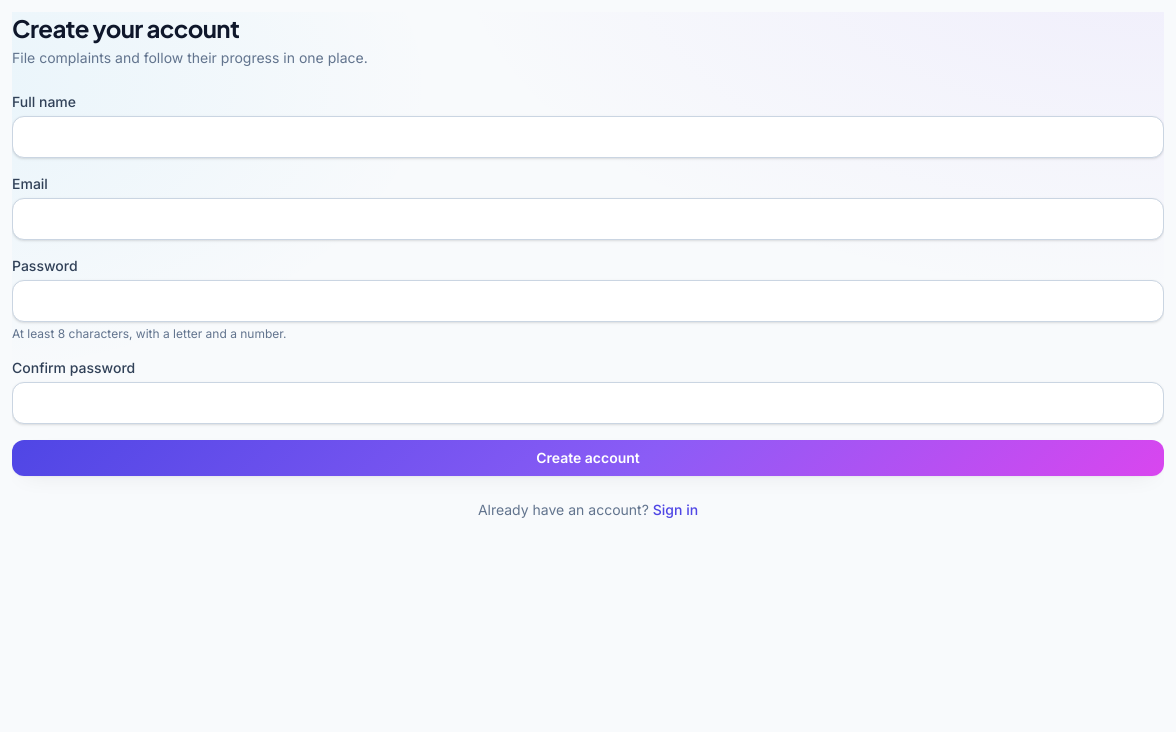
Test: shows field errors and does not submit invalid data
In the field labelled "Full name": (588, 137) [12,116,1164,158], type "A"
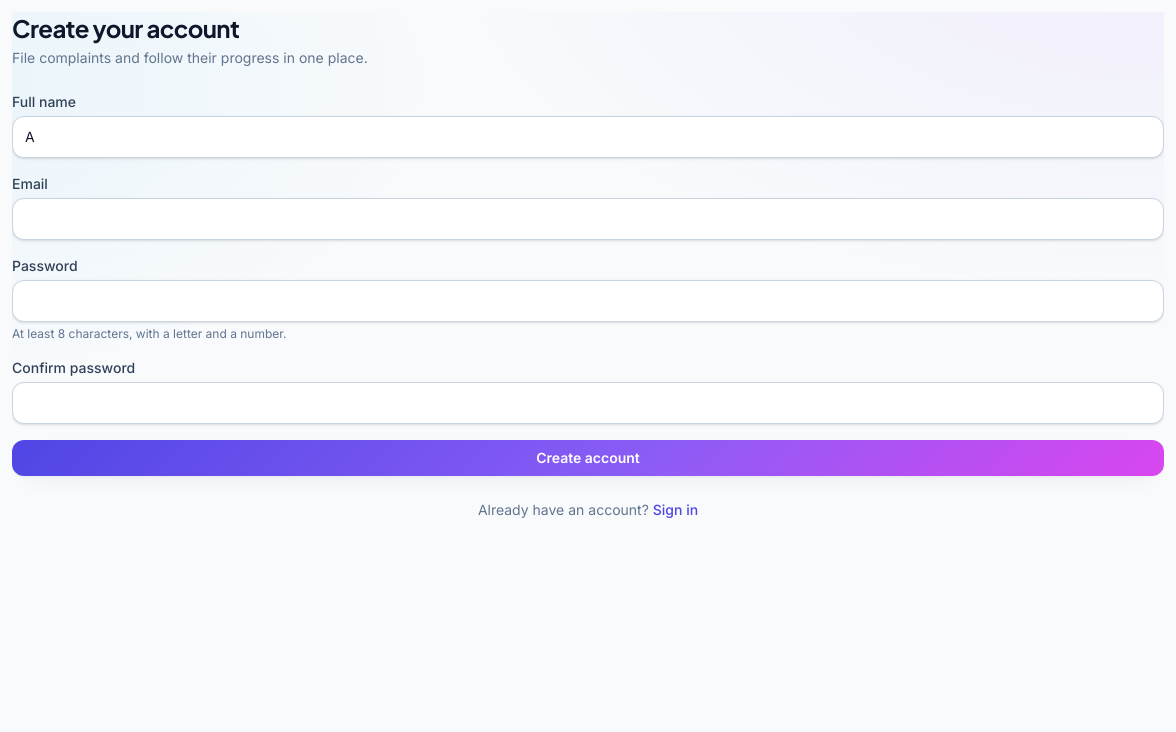
In the field labelled "Email": (588, 219) [12,198,1164,240], type "bad"
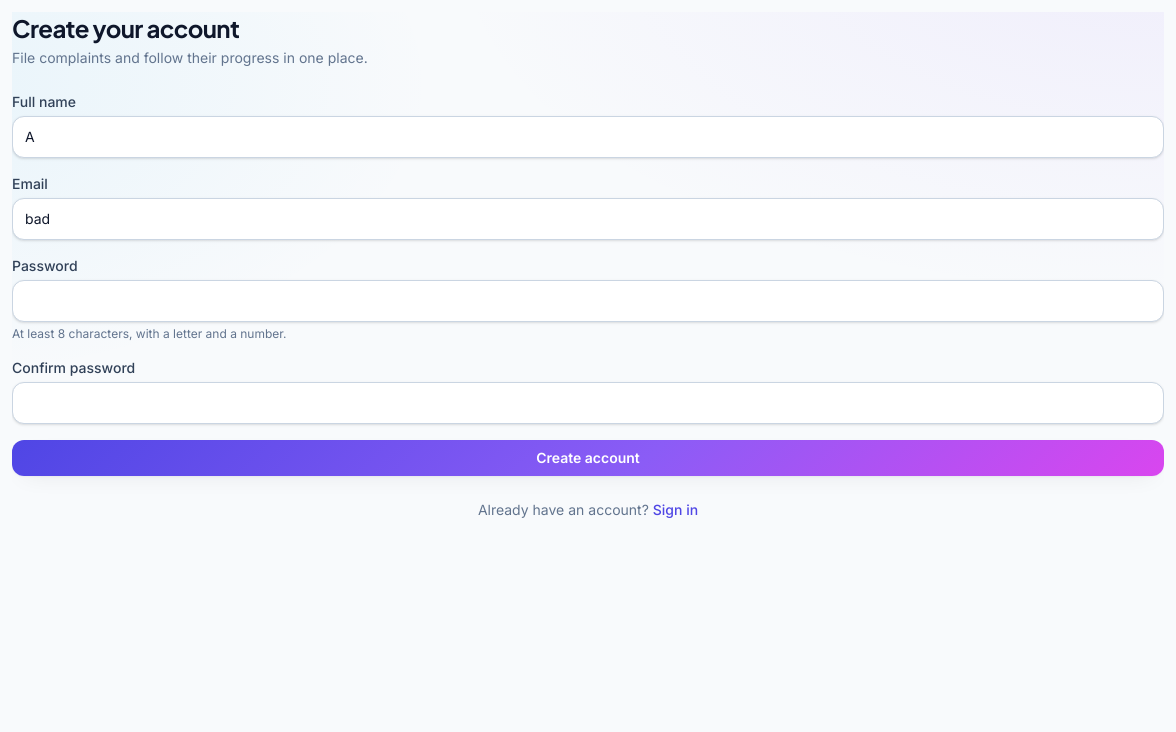
In the password field labelled "Password": (588, 301) [12,280,1164,322], type "short"
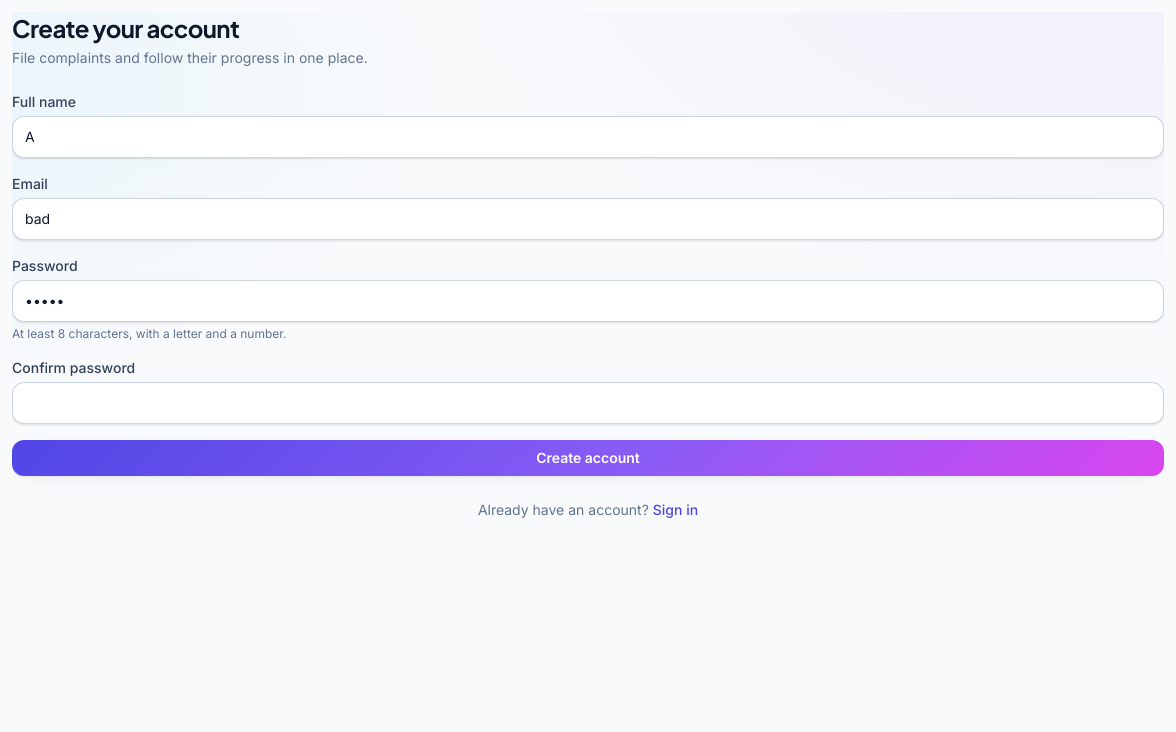
In the password field labelled "Confirm password": (588, 403) [12,382,1164,424], type "other"
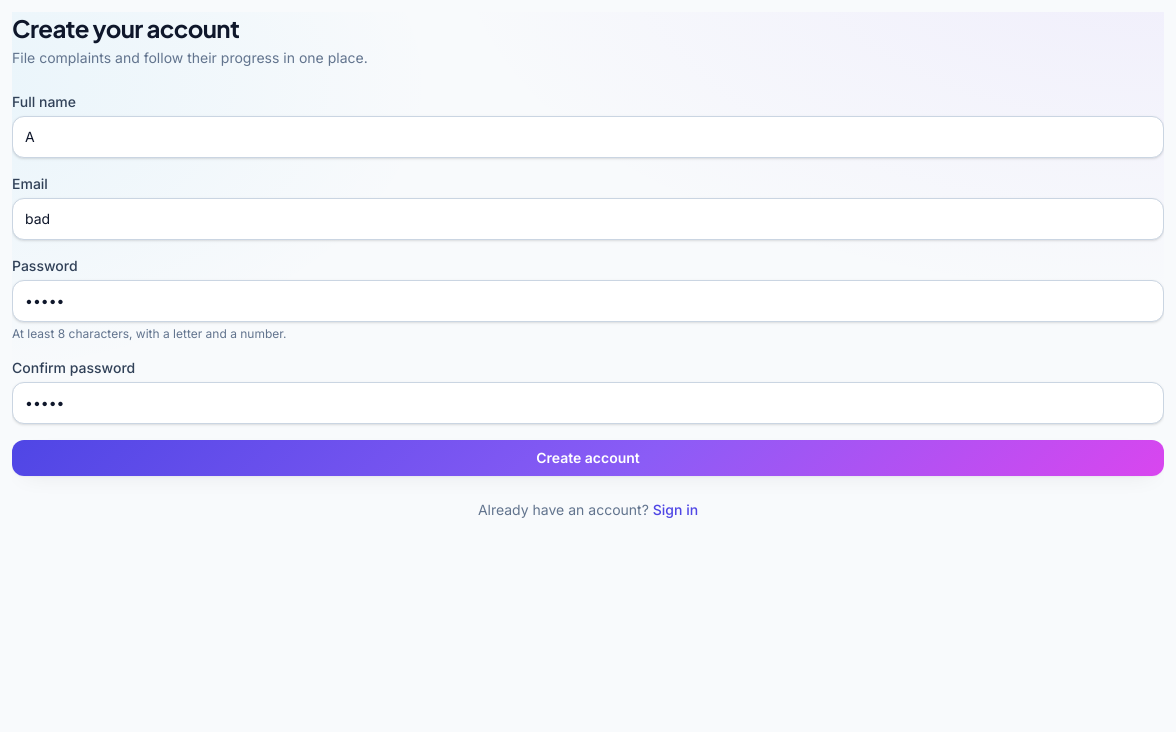
Click the button "Create account": click(588, 458) [12,440,1164,476]
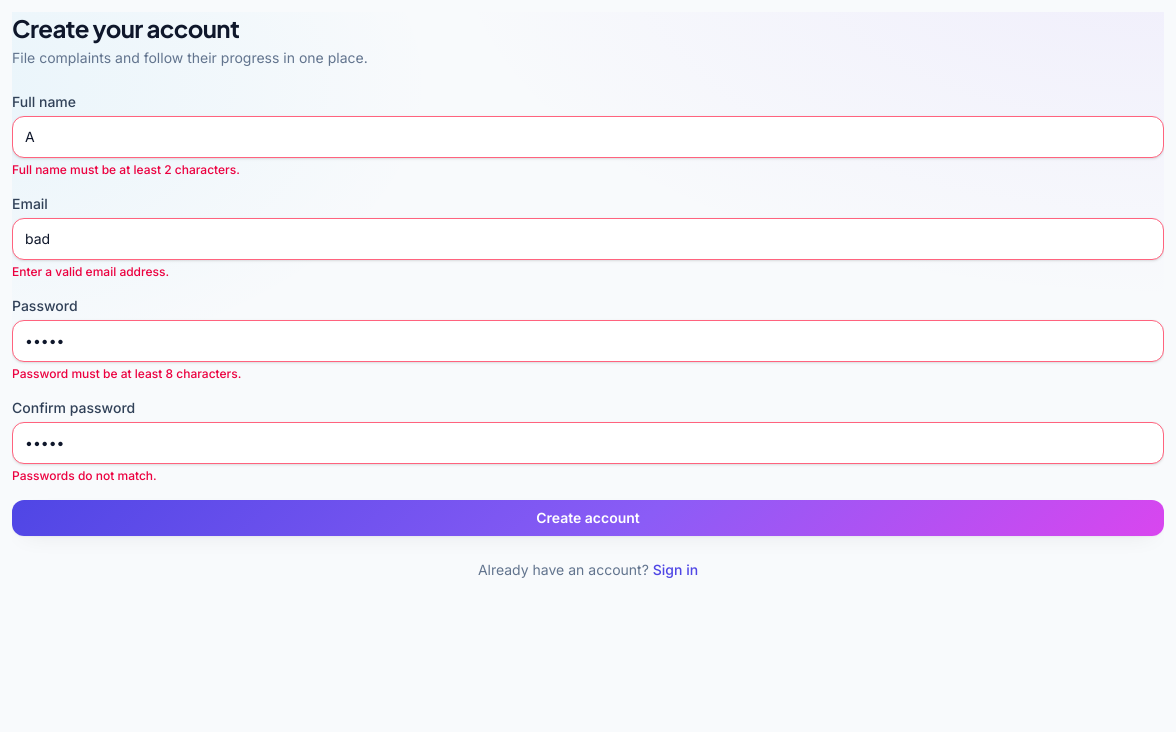
Expected: the text "Full name must be at least 2 characters." is shown, [12,162,240,177]
Expected: the text "Enter a valid email address." is shown, [12,264,169,279]
Expected: the text "Password must be at least 8 characters." is shown, [12,366,241,381]
